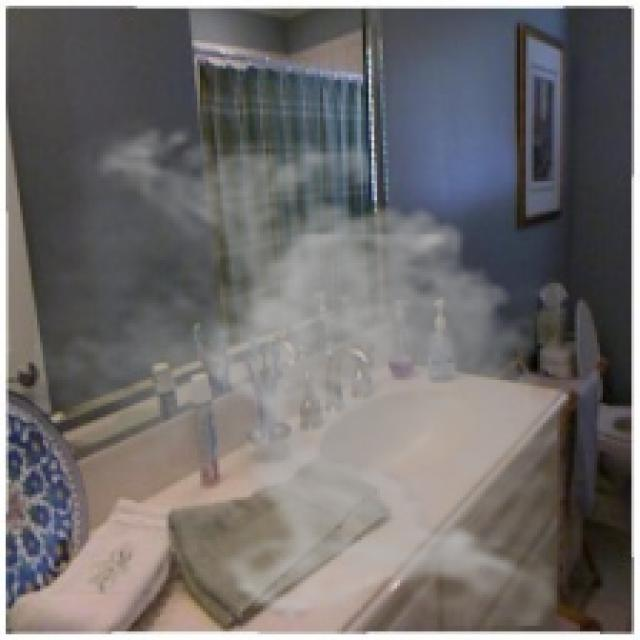smoke: (34, 111, 586, 626)
